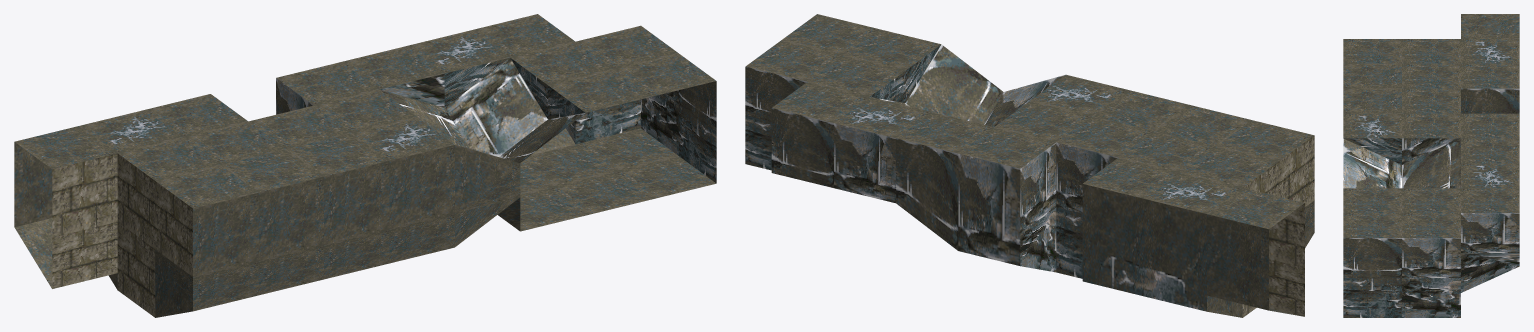
The model's file is room12.obj.
3 views of the same model, side by side, from view 1: azimuth 30°, elevation 25°; view 2: azimuth 150°, elevation 25°; view 3: azimuth 270°, elevation 25° (orthographic). The views are drawn at different scales.
Visible parts, largest first — view 1: 01-Caves.012; view 2: 01-Caves.012; view 3: 01-Caves.012.
Boxes of the visible parts, x1,y1,x2,y2 form: 01-Caves.012: [14, 14, 716, 317]; 01-Caves.012: [745, 14, 1314, 317]; 01-Caves.012: [1343, 14, 1519, 317].
Size of the model in its own units: 90 by 20 by 30.
Materials: 1 (1 with a texture image).
